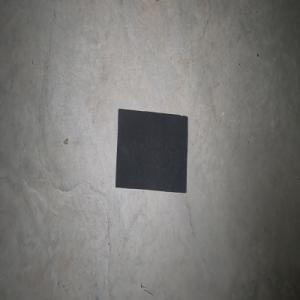PaintChip: (115, 108, 188, 193)
